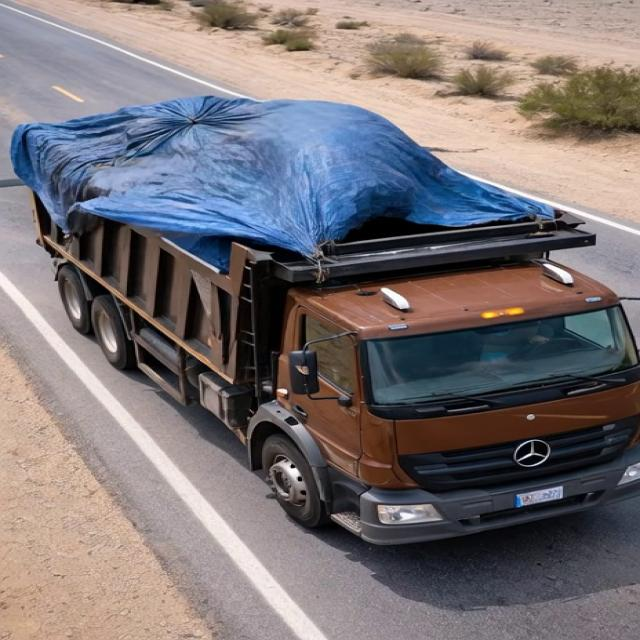trailer: (16, 95, 595, 252)
truck: (10, 73, 640, 536)
